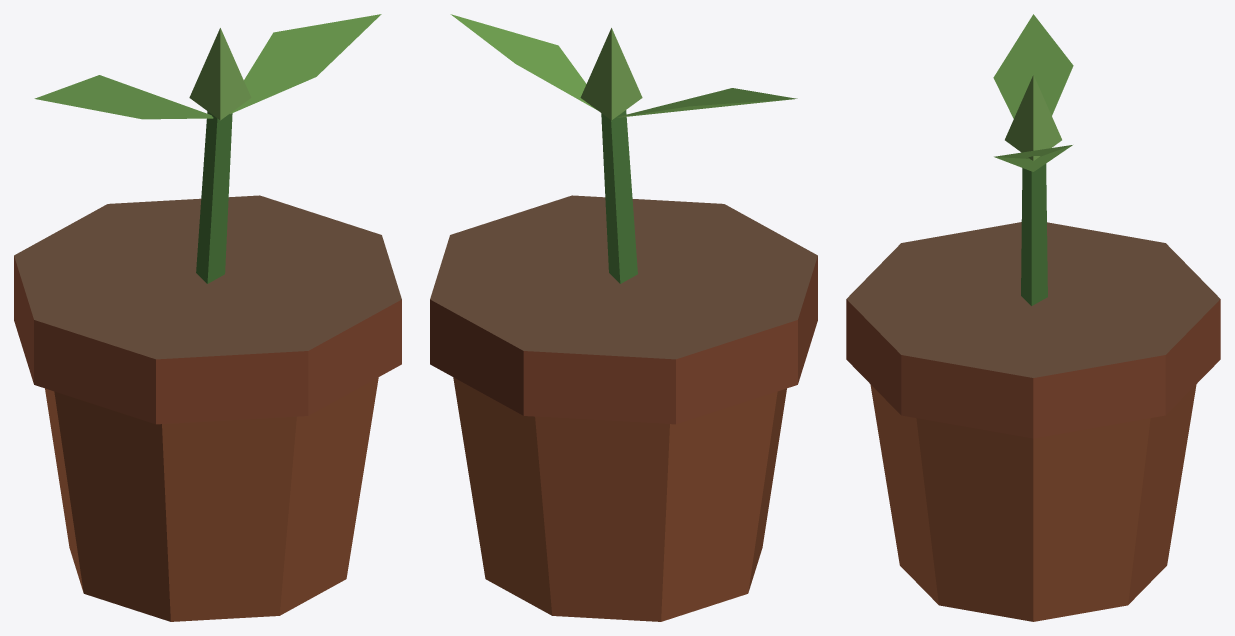
File: seed_pot.glb
3 renders of one model, left to right at view 1: azimuth 30°, elevation 25°; view 2: azimuth 150°, elevation 25°; view 3: azimuth 270°, elevation 25°, orthographic. The views are drawn at different scales.
Parts seen in each view (by area): view 1: seed_pot; view 2: seed_pot; view 3: seed_pot.
Boxes of the visible parts, x1=… form: seed_pot: x1=14, y1=14, x2=401, y2=621; seed_pot: x1=430, y1=14, x2=817, y2=621; seed_pot: x1=846, y1=14, x2=1220, y2=621.
Bounding box in the file's own units: 0.28 × 0.41 × 0.28.
